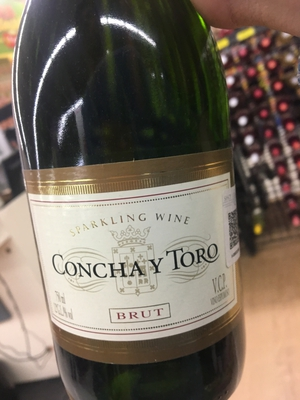brut: (12, 8, 261, 400)
